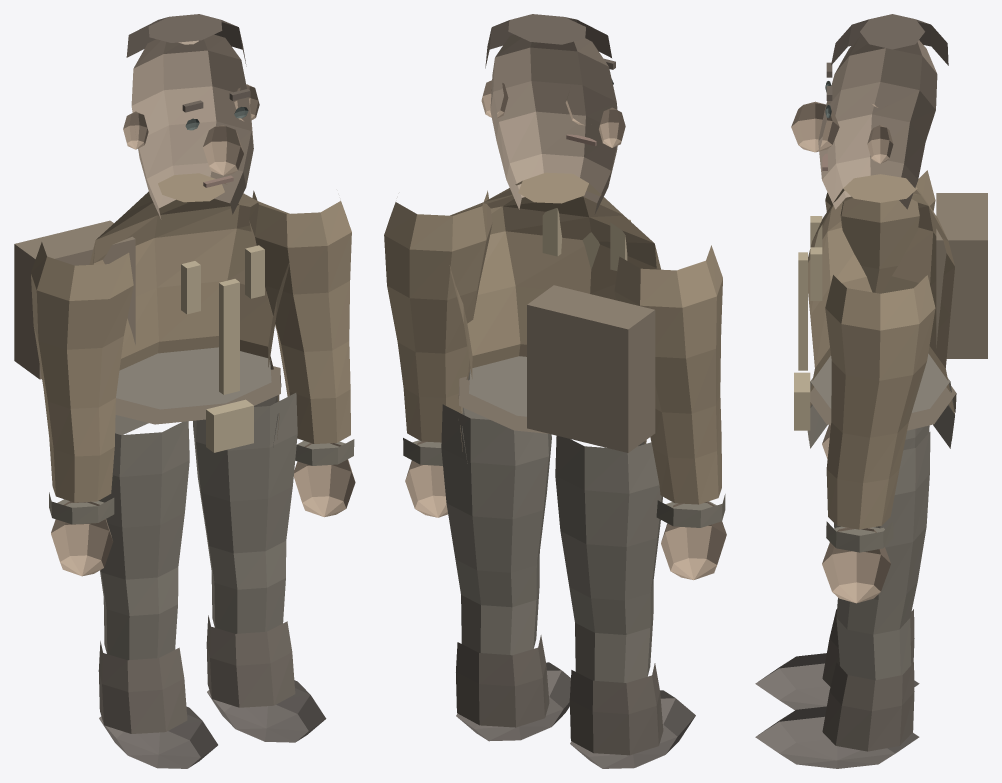
The model's file is builder_1000_2.glb.
The picture shows the model from 3 angles, left to right: view 1: azimuth 30°, elevation 25°; view 2: azimuth 150°, elevation 25°; view 3: azimuth 270°, elevation 25°; orthographic projection. The views are drawn at different scales.
Parts seen in each view (by area): view 1: body_0, leftArm_0, rightLeg_0, rightArm_0, leftLeg_0, head_0, body_1, leftLeg_1, rightLeg_1, body_7, leftLeg_2, rightLeg_2 (+12 smaller); view 2: leftLeg_0, rightLeg_0, body_7, body_0, rightArm_0, leftArm_0, head_0, leftLeg_1, rightLeg_1, leftArm_2, head_9, body_1 (+9 smaller); view 3: rightArm_0, head_0, rightLeg_0, body_0, body_7, rightLeg_1, leftArm_0, rightLeg_2, rightArm_2, head_9, leftLeg_2, body_1 (+8 smaller).
Part boxes in pixels (<box>): body_0: <box>89,173,289,439</box>; leftArm_0: <box>31,242,133,502</box>; rightLeg_0: <box>193,393,297,633</box>; rightArm_0: <box>249,190,351,443</box>; leftLeg_0: <box>98,421,189,660</box>; head_0: <box>131,34,253,219</box>; body_1: <box>115,347,278,447</box>; leftLeg_1: <box>98,641,187,733</box>; rightLeg_1: <box>206,615,295,707</box>; body_7: <box>14,220,135,379</box>; leftLeg_2: <box>99,706,217,768</box>; rightLeg_2: <box>207,680,326,742</box>; leftLeg_0: <box>555,436,662,682</box>; rightLeg_0: <box>441,404,551,655</box>; body_7: <box>527,285,655,452</box>; body_0: <box>449,172,660,451</box>; rightArm_0: <box>384,190,492,442</box>; leftArm_0: <box>614,245,722,504</box>; head_0: <box>490,34,617,214</box>; leftLeg_1: <box>569,663,663,755</box>; rightLeg_1: <box>456,635,549,727</box>; leftArm_2: <box>661,501,726,580</box>; head_9: <box>485,14,611,68</box>; body_1: <box>462,356,644,463</box>; rightArm_0: <box>825,275,935,529</box>; head_0: <box>818,35,937,209</box>; rightLeg_0: <box>834,432,930,680</box>; body_0: <box>807,174,954,440</box>; body_7: <box>936,193,987,358</box>; rightLeg_1: <box>822,662,914,751</box>; leftArm_0: <box>825,170,935,293</box>; rightLeg_2: <box>755,706,919,768</box>; rightArm_2: <box>822,527,890,603</box>; head_9: <box>831,14,948,65</box>; leftLeg_2: <box>755,653,919,710</box>; body_1: <box>808,353,954,448</box>.
Bounding box in the file's own units: 0.774 × 1.66 × 0.498.
